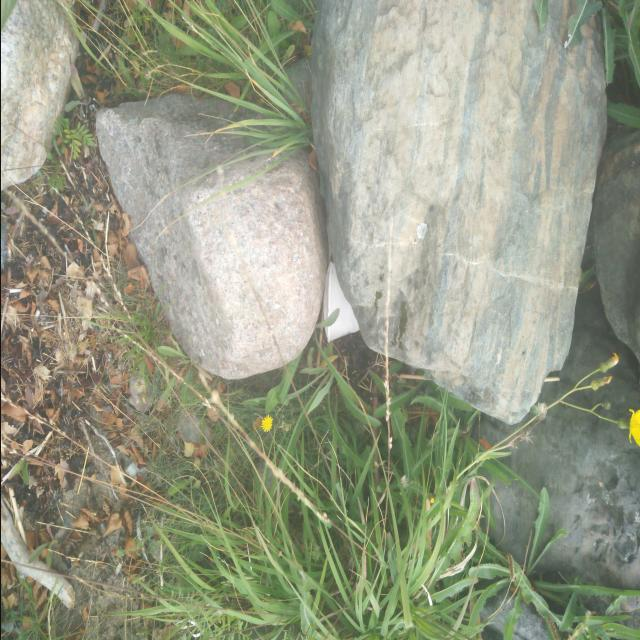Paper cup: (322, 260, 358, 341)
